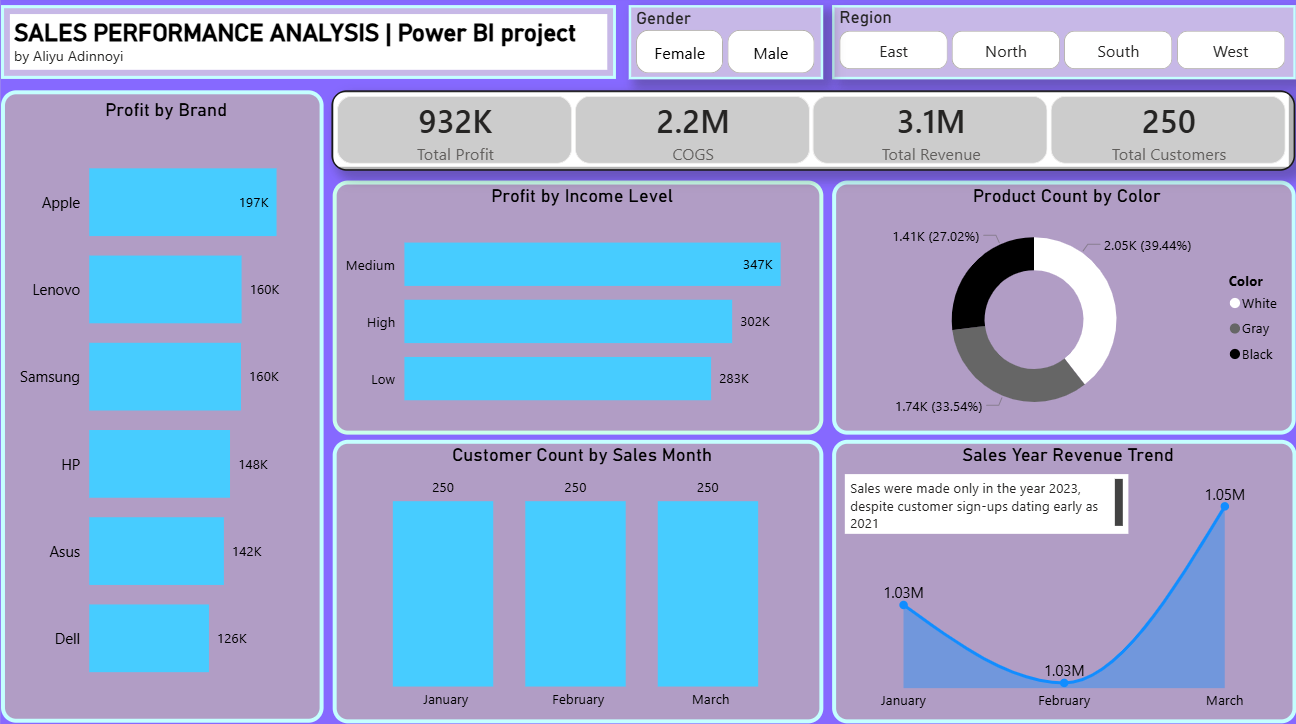

Layout of this report page (visuals, bound fields, positions):
{"tool":"powerbi","page":{"name":"Page 1","canvas":[1280,720],"ordinal":0},"visuals":[{"type":"barChart","fields":{"Category":["Products.Brand"],"Y":["Sales Measures.Total Profit"]},"box":[0,94.2,318.3,625.2],"z":0},{"type":"donutChart","title":"Count of Product ID by Color","fields":{"Category":["Products.Color"],"Y":["CountNonNull(Sales.ProductID)"]},"box":[821.6,183.1,457.8,250.9],"z":1000},{"type":"areaChart","title":"Sales Year Revenue Trend","fields":{"Category":["Sales.SaleMonth"],"Y":["Sales Measures.Total Revenue"]},"box":[821.2,439.3,458.4,280.1],"z":2000},{"type":"lineChart","title":"Count of Customer ID by Sales Month","fields":{"Category":["Sales.SaleMonth"],"Y":["CountNonNull(Sales.CustomerID)"]},"box":[327.2,439.3,485.1,280.1],"z":3000},{"type":"barChart","title":"Total Profit by Income Level","fields":{"Category":["Customers.IncomeLevel"],"Y":["Sales Measures.Total Profit"]},"box":[327.2,183.3,485.1,250.8],"z":4000},{"type":"advancedSlicerVisual","fields":{"Values":["Customers.Region"]},"box":[821.1,10,458.3,72.8],"z":5000},{"type":"advancedSlicerVisual","fields":{"Values":["Customers.Gender"]},"box":[570,10,242.3,72.8],"z":6000},{"type":"shape","box":[0,10,559.9,72.8],"z":7000},{"type":"cardVisual","fields":{"Data":["Sales Measures.Total Profit","Sales Measures.COGS","Sales Measures.Total Revenue","Sales Measures.Total Customers"]},"box":[327,93.9,952.4,79.7],"z":8000},{"type":"textbox","box":[8.8,18.8,542.4,55.2],"z":9000},{"type":"textbox","box":[833.6,473.3,280,59],"z":10000}]}

Visuals, with their boxes in screenshot pixels (x1, y1, x2, y2), scaled from the page's 1280x720 canvas onto the 1296x724 screenshot:
barChart - Products.Brand x Sales Measures.Total Profit: (0, 95, 322, 723)
"Count of Product ID by Color" donutChart: (832, 184, 1295, 436)
"Sales Year Revenue Trend" areaChart: (831, 442, 1295, 723)
"Count of Customer ID by Sales Month" lineChart: (331, 442, 822, 723)
"Total Profit by Income Level" barChart: (331, 184, 822, 437)
advancedSlicerVisual - Customers.Region: (831, 10, 1295, 83)
advancedSlicerVisual - Customers.Gender: (577, 10, 822, 83)
shape: (0, 10, 567, 83)
cardVisual - Sales Measures.Total Profit x Sales Measures.COGS: (331, 94, 1295, 175)
textbox: (9, 19, 558, 74)
textbox: (844, 476, 1128, 535)
